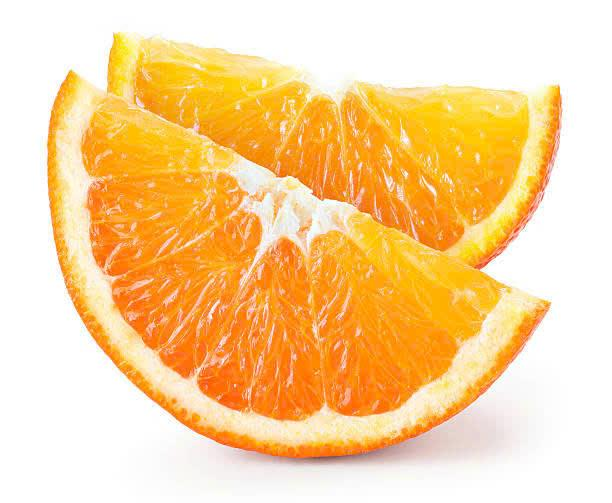orange: (53, 30, 543, 452)
